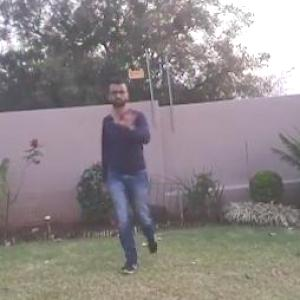follow_hand: (112, 103, 142, 132)
